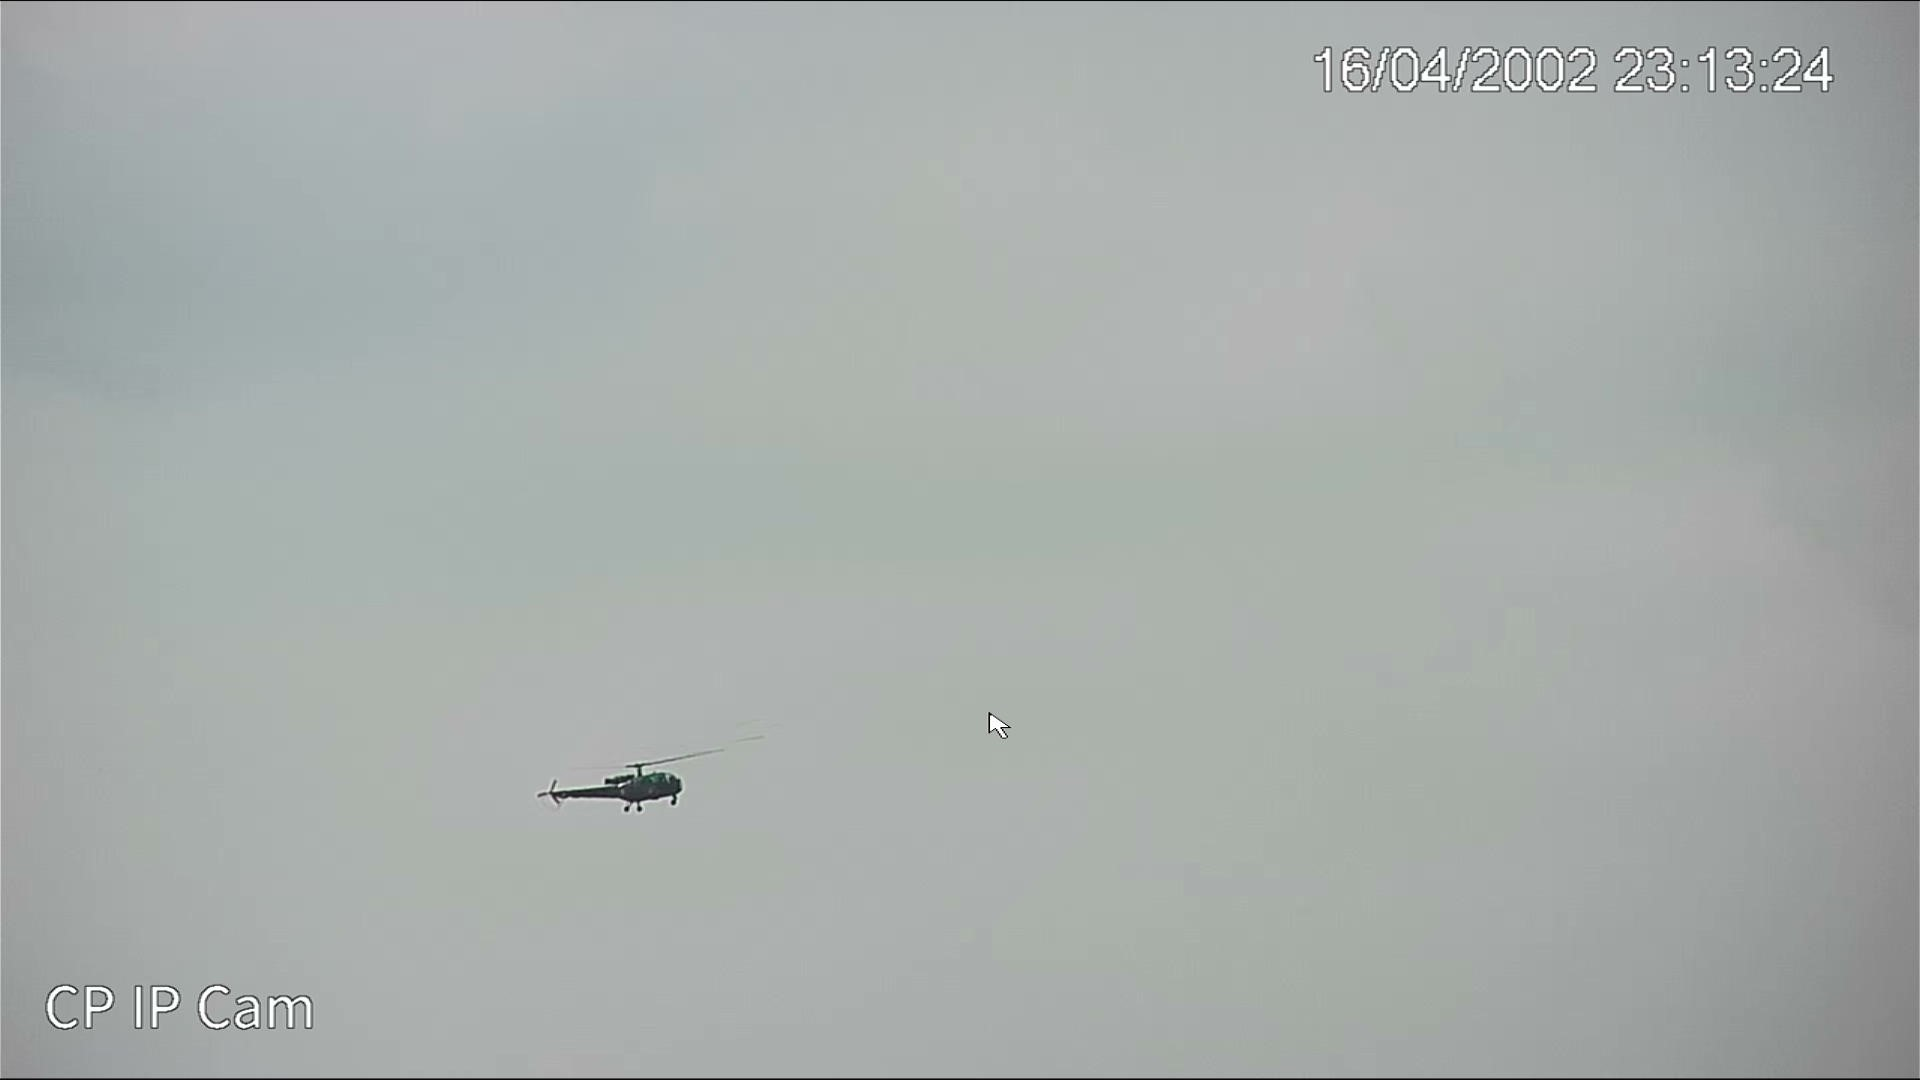SU_30: (535, 754, 698, 806)
